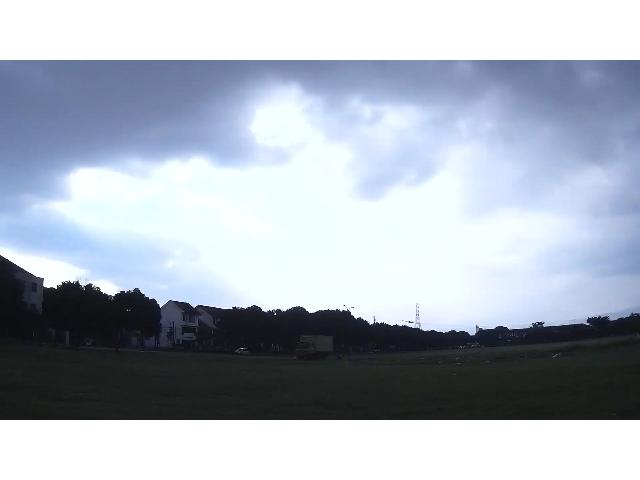Anti-Drone: (396, 313, 426, 333)
